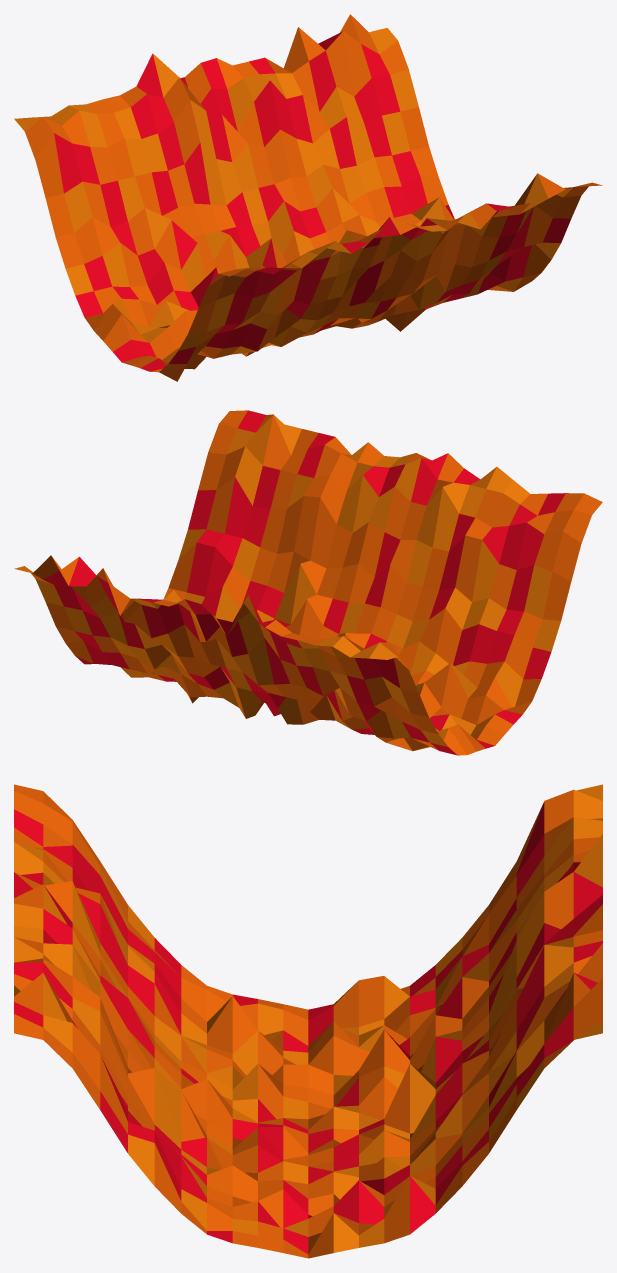
Rendered from canyon1.fbx.
The picture shows the model from 3 angles, top to bottom: view 1: azimuth 30°, elevation 25°; view 2: azimuth 150°, elevation 25°; view 3: azimuth 270°, elevation 25°; orthographic projection. The views are drawn at different scales.
Visible parts, largest first — view 1: Plane.001; view 2: Plane.001; view 3: Plane.001.
Part boxes in pixels (box(x1,y1,x2,y2)): Plane.001: box(14, 14, 602, 381); Plane.001: box(14, 410, 602, 755); Plane.001: box(14, 784, 602, 1258).
Size of the model in its own units: 1000 by 538 by 1000.
